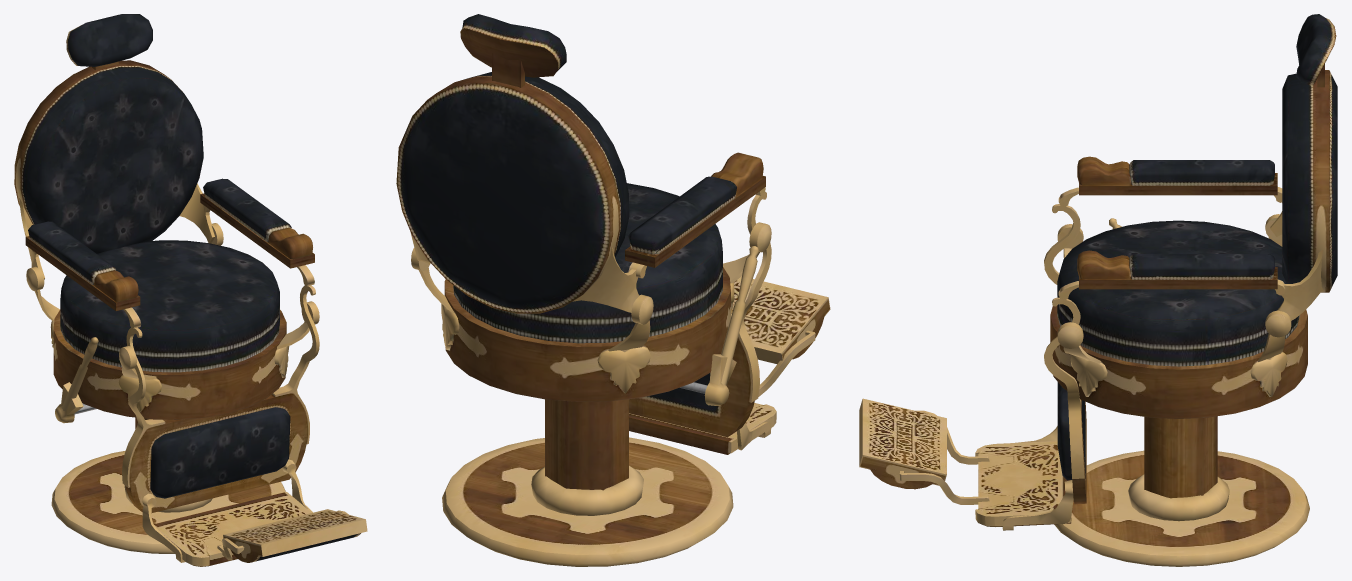
File: BarberShopChair_01.glb
3 renders of one model, left to right at view 1: azimuth 30°, elevation 25°; view 2: azimuth 150°, elevation 25°; view 3: azimuth 270°, elevation 25°, orthographic. The views are drawn at different scales.
Visible parts, largest first — view 1: BarberShopChair_01; view 2: BarberShopChair_01; view 3: BarberShopChair_01.
Part boxes in pixels (bbox=[...]): BarberShopChair_01: bbox=[14, 14, 367, 566]; BarberShopChair_01: bbox=[396, 14, 830, 566]; BarberShopChair_01: bbox=[859, 14, 1337, 566].
Bounding box in the file's own units: 0.7566 × 1.49 × 1.33.
1 material, 1 textured.
